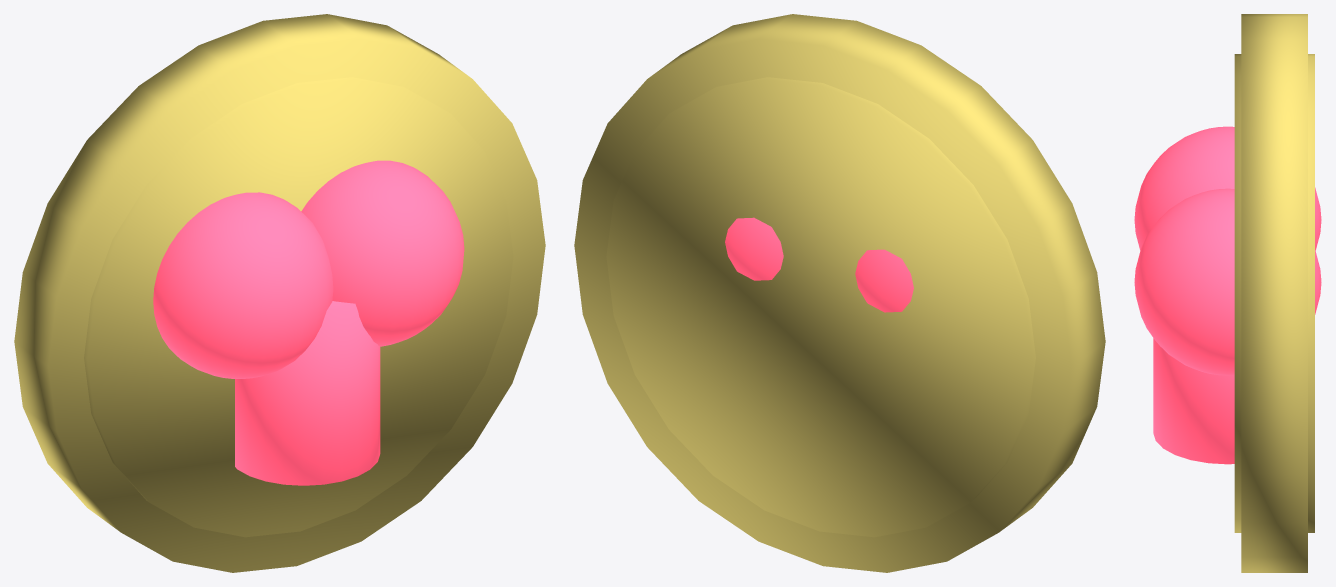
Rendered from token_heart.glb.
3 views of the same model, side by side, from view 1: azimuth 30°, elevation 25°; view 2: azimuth 150°, elevation 25°; view 3: azimuth 270°, elevation 25° (orthographic). The views are drawn at different scales.
Visible parts, largest first — view 1: CoinFace, CoinRim, HeartLobeL, HeartLobeR, HeartPoint; view 2: CoinFace, CoinRim, HeartLobeL, HeartLobeR; view 3: CoinRim, HeartLobeR, HeartPoint, CoinFace, HeartLobeL.
Boxes of the visible parts, x1=… form: CoinFace: x1=84, y1=77, x2=513, y2=537; CoinRim: x1=14, y1=14, x2=545, y2=572; HeartLobeL: x1=153, y1=192, x2=333, y2=378; HeartLobeR: x1=301, y1=160, x2=464, y2=346; HeartPoint: x1=235, y1=301, x2=380, y2=485; CoinFace: x1=606, y1=77, x2=1035, y2=537; CoinRim: x1=574, y1=14, x2=1105, y2=572; HeartLobeL: x1=855, y1=249, x2=913, y2=312; HeartLobeR: x1=725, y1=217, x2=783, y2=280; CoinRim: x1=1241, y1=14, x2=1307, y2=572; HeartLobeR: x1=1134, y1=188, x2=1321, y2=375; HeartPoint: x1=1153, y1=338, x2=1234, y2=464; CoinFace: x1=1234, y1=54, x2=1314, y2=532; HeartLobeL: x1=1134, y1=126, x2=1321, y2=250.
Size of the model in its own units: 0.84 by 0.84 by 0.28.
